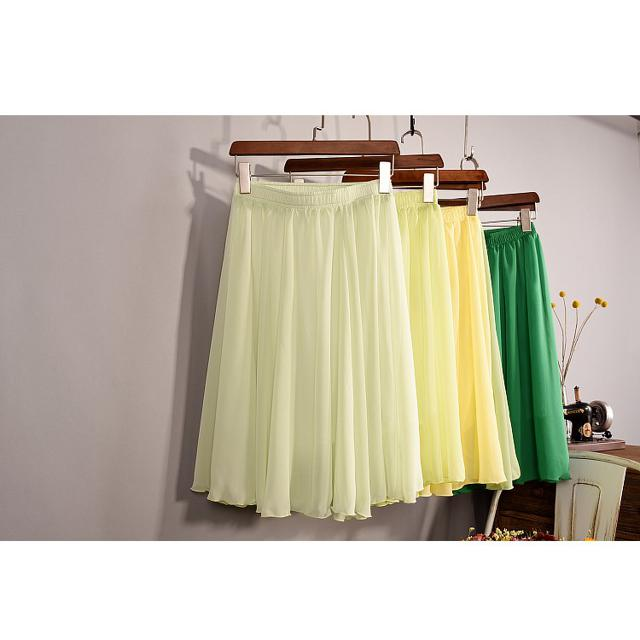Skirts: (215, 172, 422, 520)
